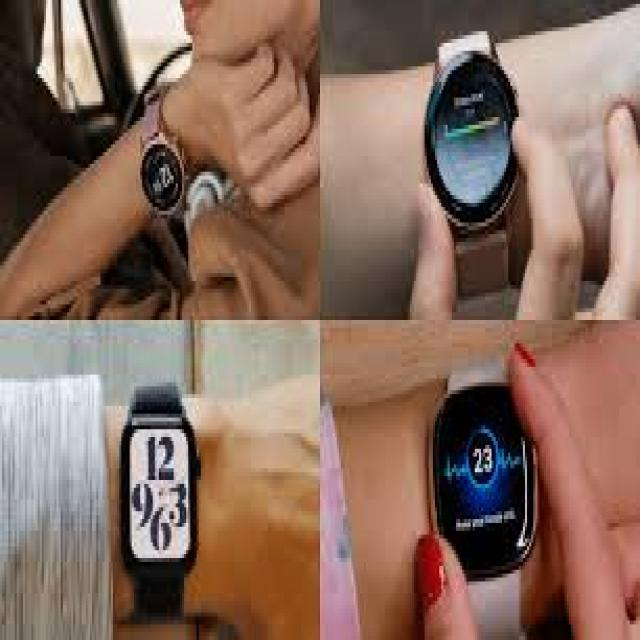objects: (420, 341, 549, 617), (418, 25, 529, 287), (122, 381, 201, 622), (132, 97, 196, 236)
